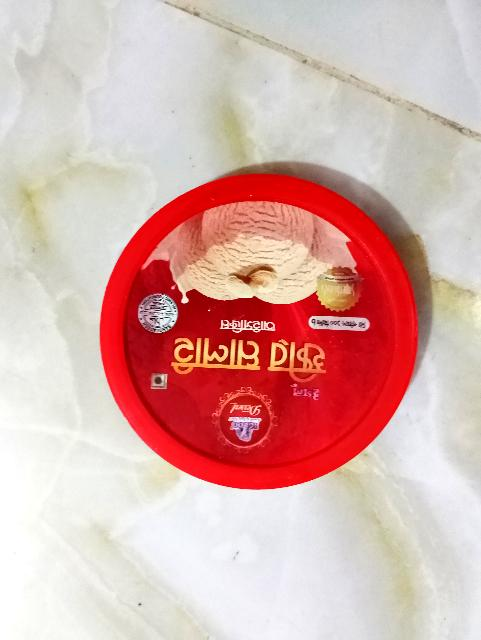hardplastic: (102, 173, 426, 499)
